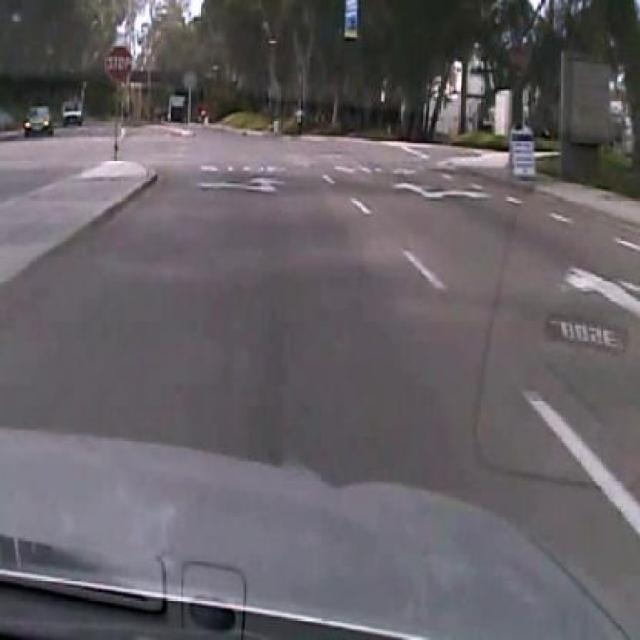Stop: (102, 45, 135, 90)
